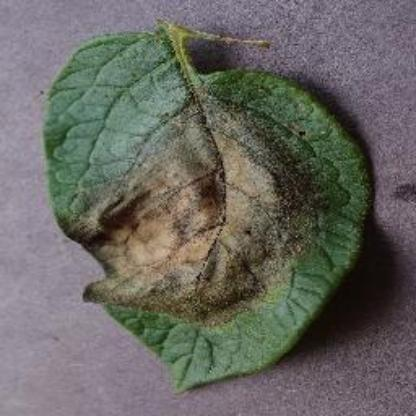Late-Blight: (30, 26, 378, 382)
